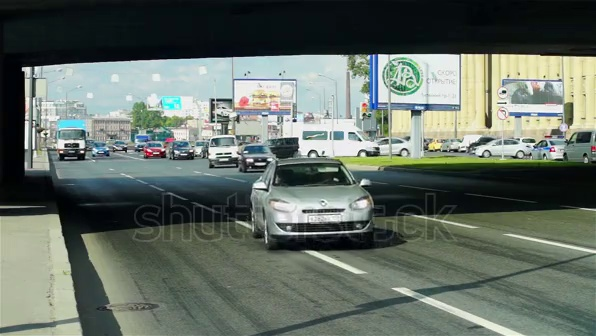licenseplate: (304, 211, 340, 222)
